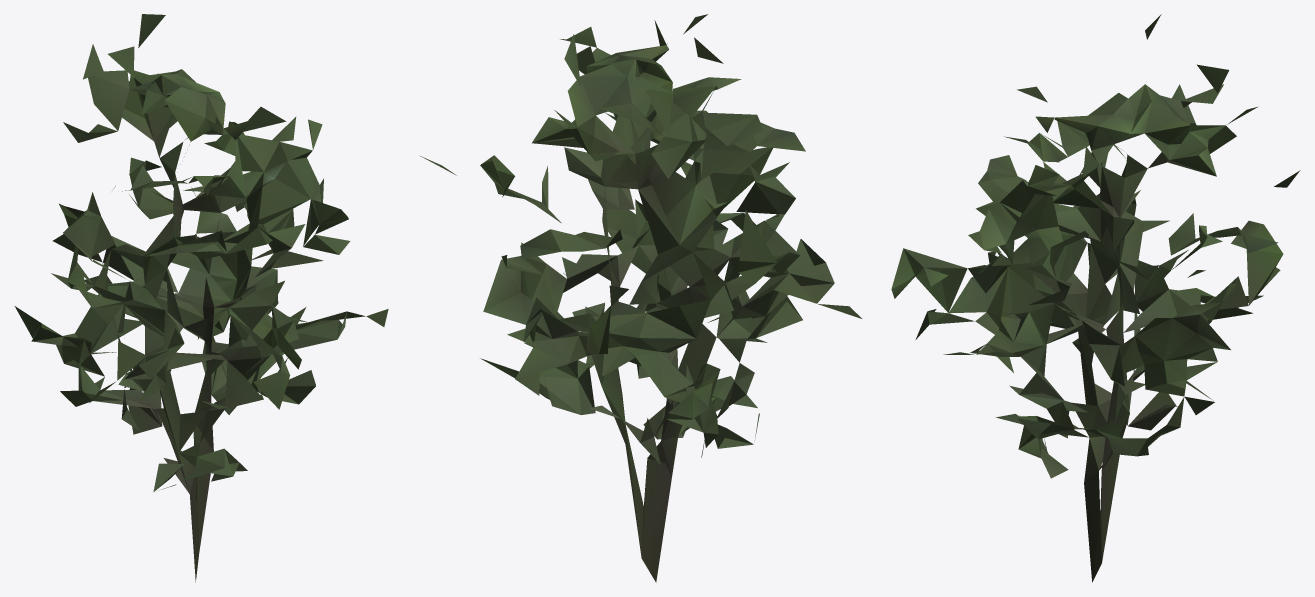
The model's file is lib_tp_xoai.vc2.glb.
3 renders of one model, left to right at view 1: azimuth 30°, elevation 25°; view 2: azimuth 150°, elevation 25°; view 3: azimuth 270°, elevation 25°, orthographic. The views are drawn at different scales.
Visible parts, largest first — view 1: lib_tp_xoai; view 2: lib_tp_xoai; view 3: lib_tp_xoai.
Part boxes in pixels (left/top/right/bottom): lib_tp_xoai: left=14, top=14, right=388, bottom=582; lib_tp_xoai: left=419, top=14, right=861, bottom=582; lib_tp_xoai: left=891, top=14, right=1300, bottom=582.
Bounding box in the file's own units: 1.18 × 1.97 × 1.37.
